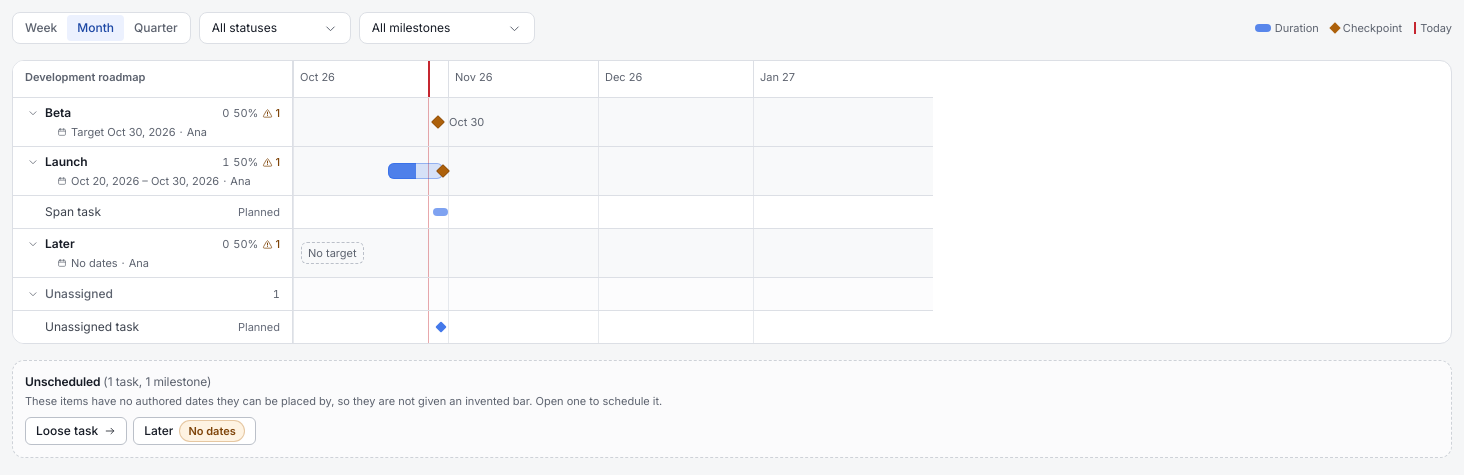
Test: roadmap view hierarchy › collapses a milestone without losing its row
This screenshot has width=1464, height=475.
Click the button named "Collapse Launch": (33, 162) x1=25 y1=154 x2=41 y2=170
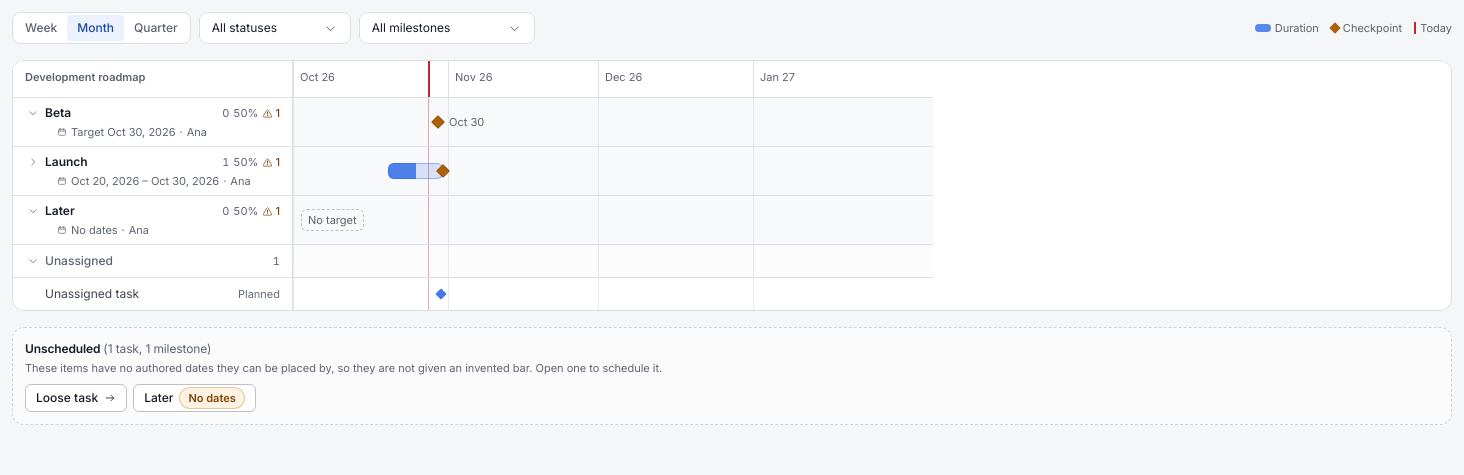
Expected: the button named "Expand Launch" is shown, x1=25 y1=154 x2=41 y2=170
